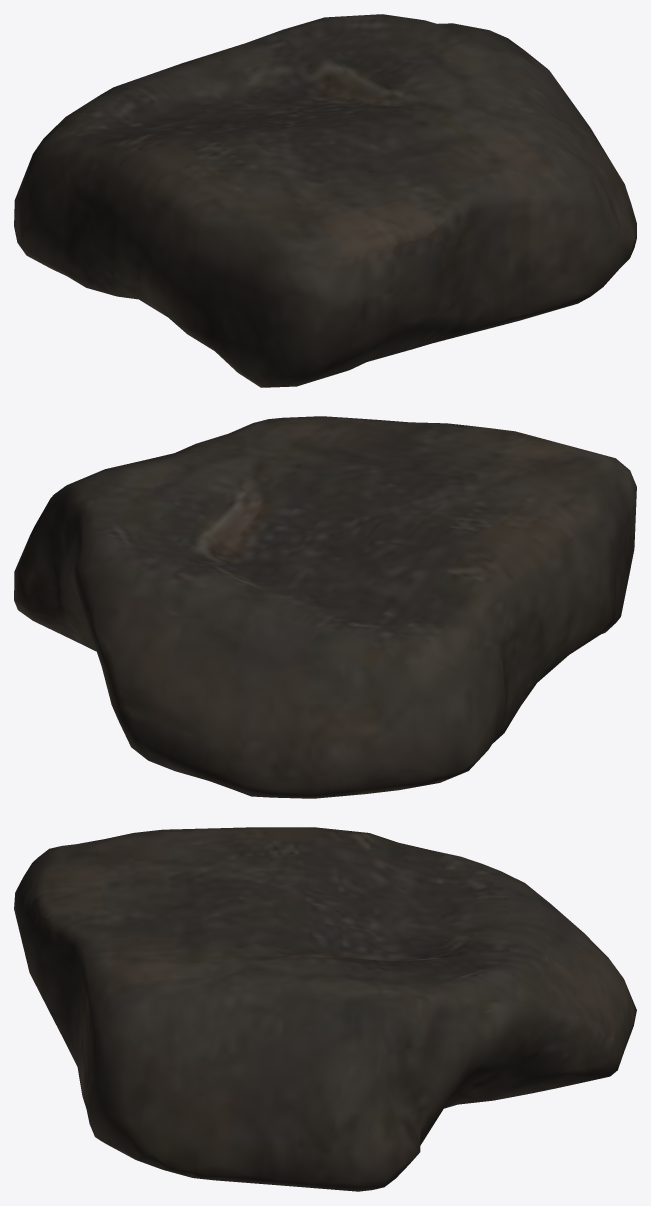
The model's file is SM_small_rock_02.glb.
3 views of the same model, one above another, from view 1: azimuth 30°, elevation 25°; view 2: azimuth 150°, elevation 25°; view 3: azimuth 270°, elevation 25° (orthographic).
Parts seen in each view (by area): view 1: SM_rock_02; view 2: SM_rock_02; view 3: SM_rock_02.
Boxes of the visible parts, left/top/right/bottom form: SM_rock_02: left=14, top=14, right=636, bottom=387; SM_rock_02: left=14, top=416, right=636, bottom=798; SM_rock_02: left=14, top=827, right=636, bottom=1191.
Size of the model in its own units: 0.1918 by 0.0578 by 0.2027.
Materials: 1 (1 with a texture image).
